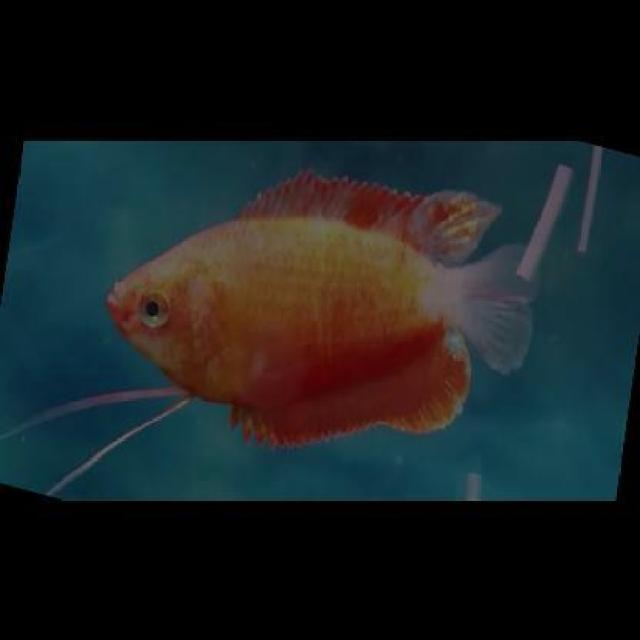Gourami: (107, 168, 538, 450)
